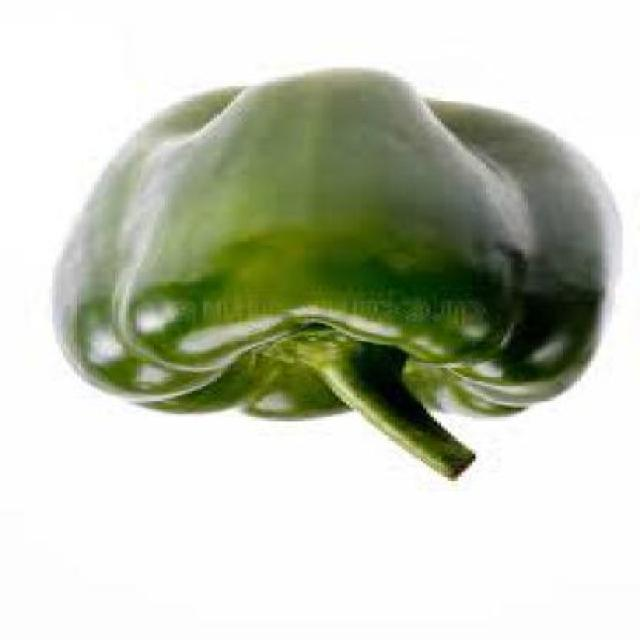BIODEGRADABLE: (59, 76, 608, 482)
